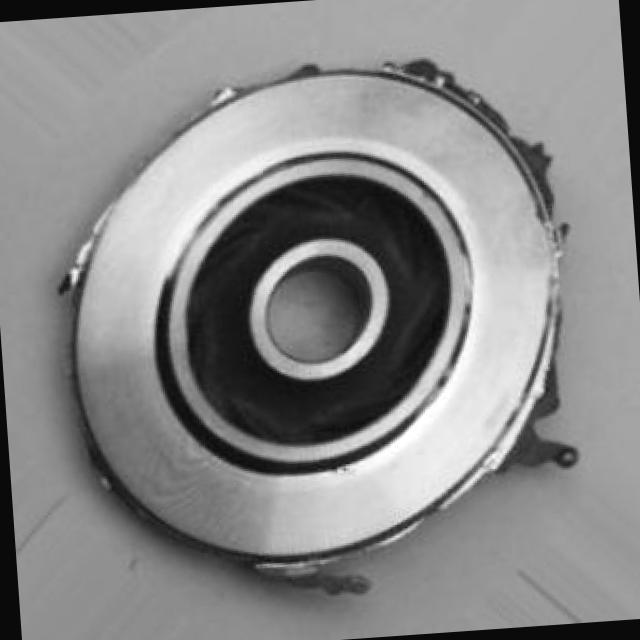Defect: (396, 41, 479, 110), (196, 71, 253, 107)
